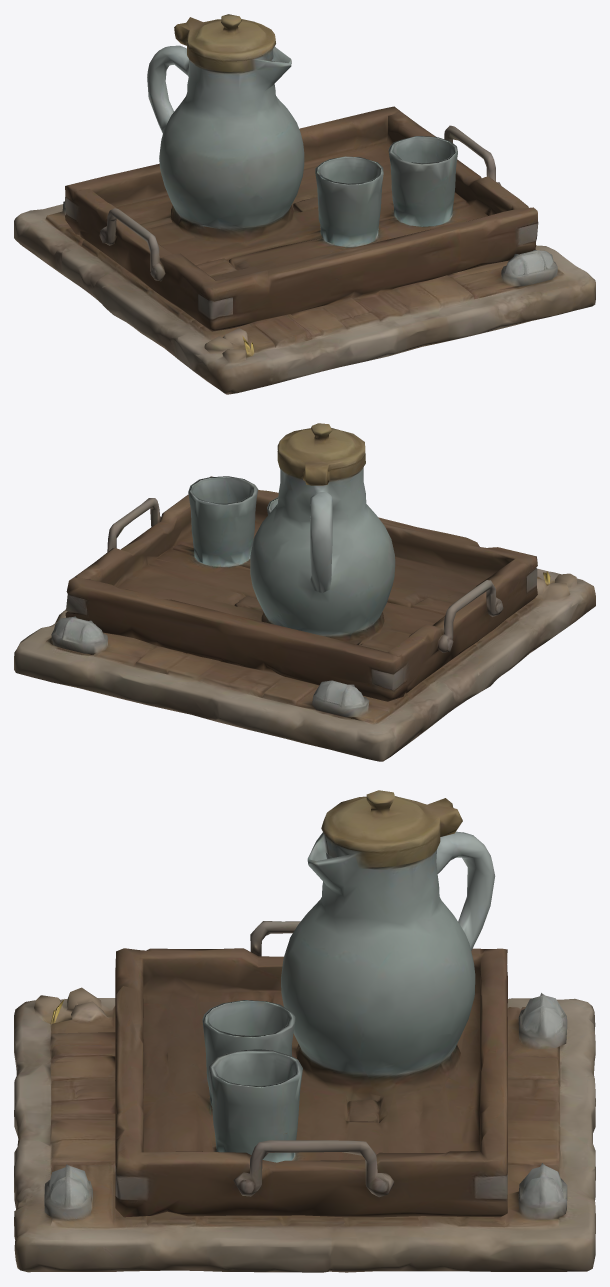
File: panel_water_jug.glb
The picture shows the model from 3 angles, top to bottom: view 1: azimuth 30°, elevation 25°; view 2: azimuth 150°, elevation 25°; view 3: azimuth 270°, elevation 25°; orthographic projection. The views are drawn at different scales.
Parts seen in each view (by area): view 1: tripo_node_9a1278a7-7a38-4186-85bc-4c084330af12; view 2: tripo_node_9a1278a7-7a38-4186-85bc-4c084330af12; view 3: tripo_node_9a1278a7-7a38-4186-85bc-4c084330af12.
Boxes of the visible parts, box(x1,y1,x2,y2) form: tripo_node_9a1278a7-7a38-4186-85bc-4c084330af12: box(14, 14, 595, 394); tripo_node_9a1278a7-7a38-4186-85bc-4c084330af12: box(14, 423, 595, 761); tripo_node_9a1278a7-7a38-4186-85bc-4c084330af12: box(14, 790, 595, 1272).
Bounding box in the file's own units: 1 × 0.6253 × 0.9991.
Materials: 1 (1 with a texture image).
